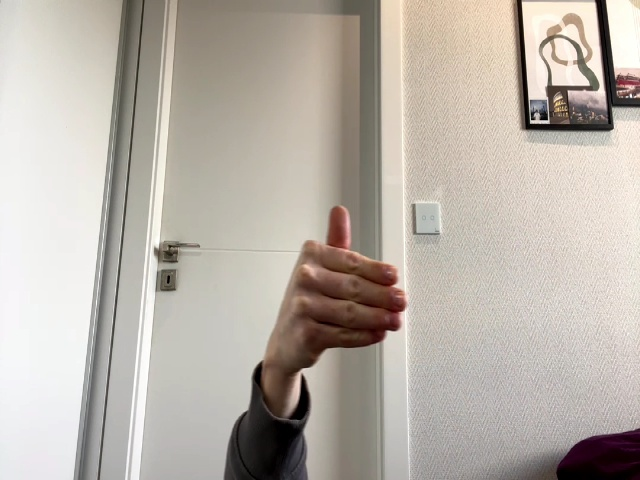M: (281, 205, 407, 377)
